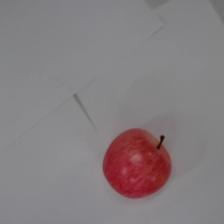red: (95, 120, 185, 201)
